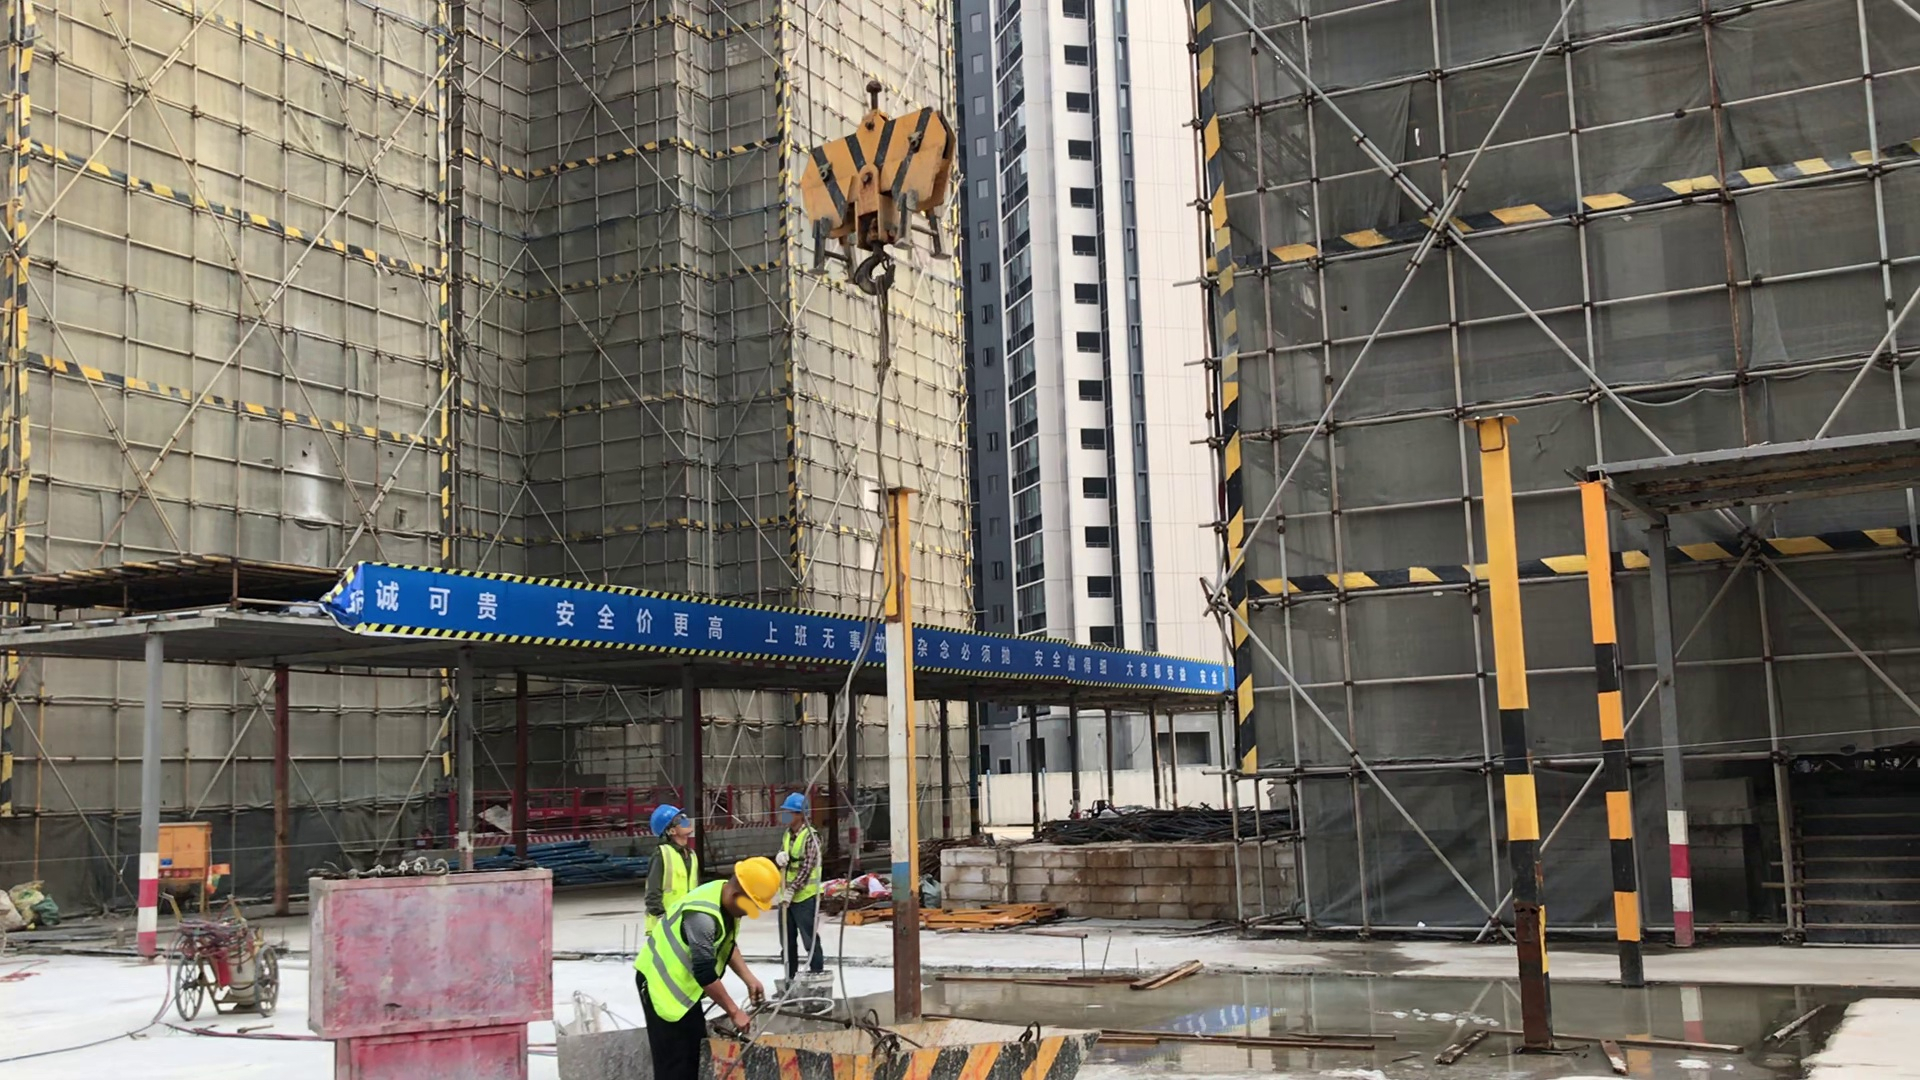ebox: (158, 817, 217, 916)
fence: (531, 787, 647, 838), (706, 784, 778, 830)
handcart: (165, 878, 285, 1028)
helmet: (732, 858, 784, 912), (649, 805, 684, 837), (778, 791, 810, 816)
hook: (791, 76, 956, 301)
hopper: (715, 1001, 1127, 1080), (540, 994, 635, 1080)
person: (632, 853, 784, 1072), (774, 789, 829, 971), (639, 803, 701, 933)
slogan: (362, 554, 850, 657), (910, 624, 1221, 709)
vest: (636, 877, 741, 1024), (648, 844, 699, 931), (782, 827, 825, 906)
